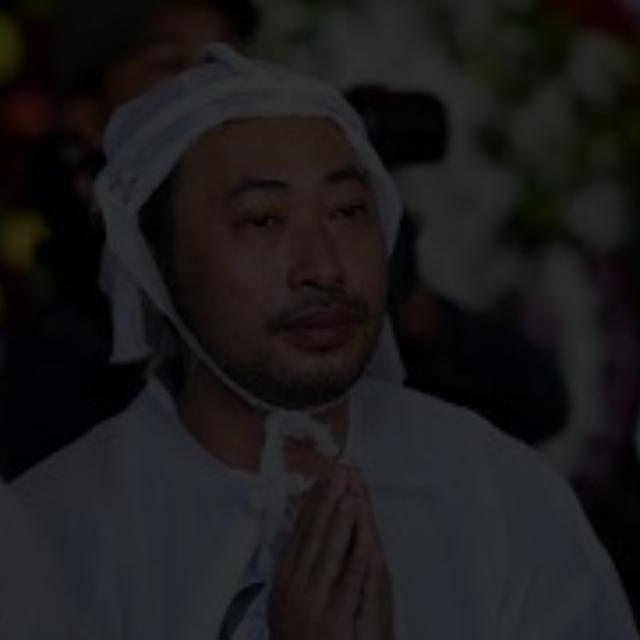Sad: (149, 119, 421, 381)
